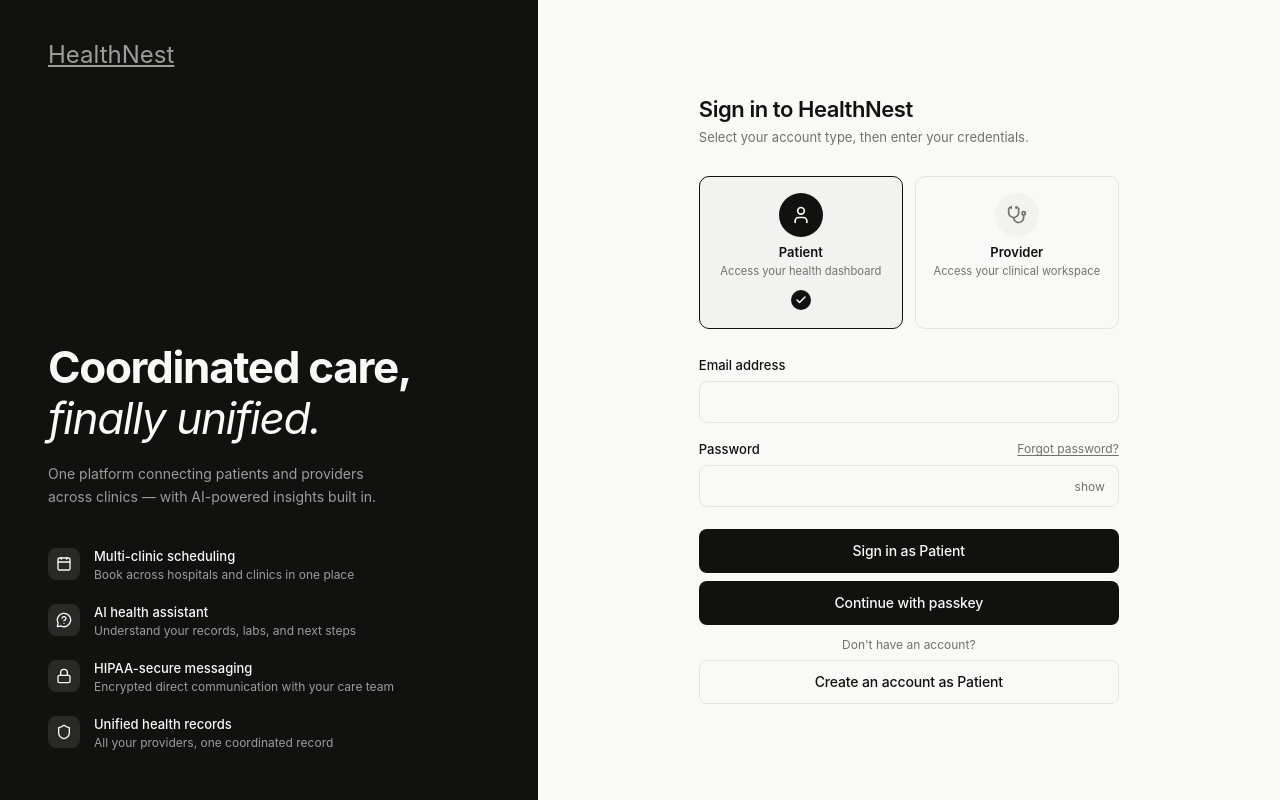
Login › shows error when passkey button clicked without email
Click the button "Continue with passkey" at point(909, 603), box x1=699 y1=581 x2=1119 y2=625
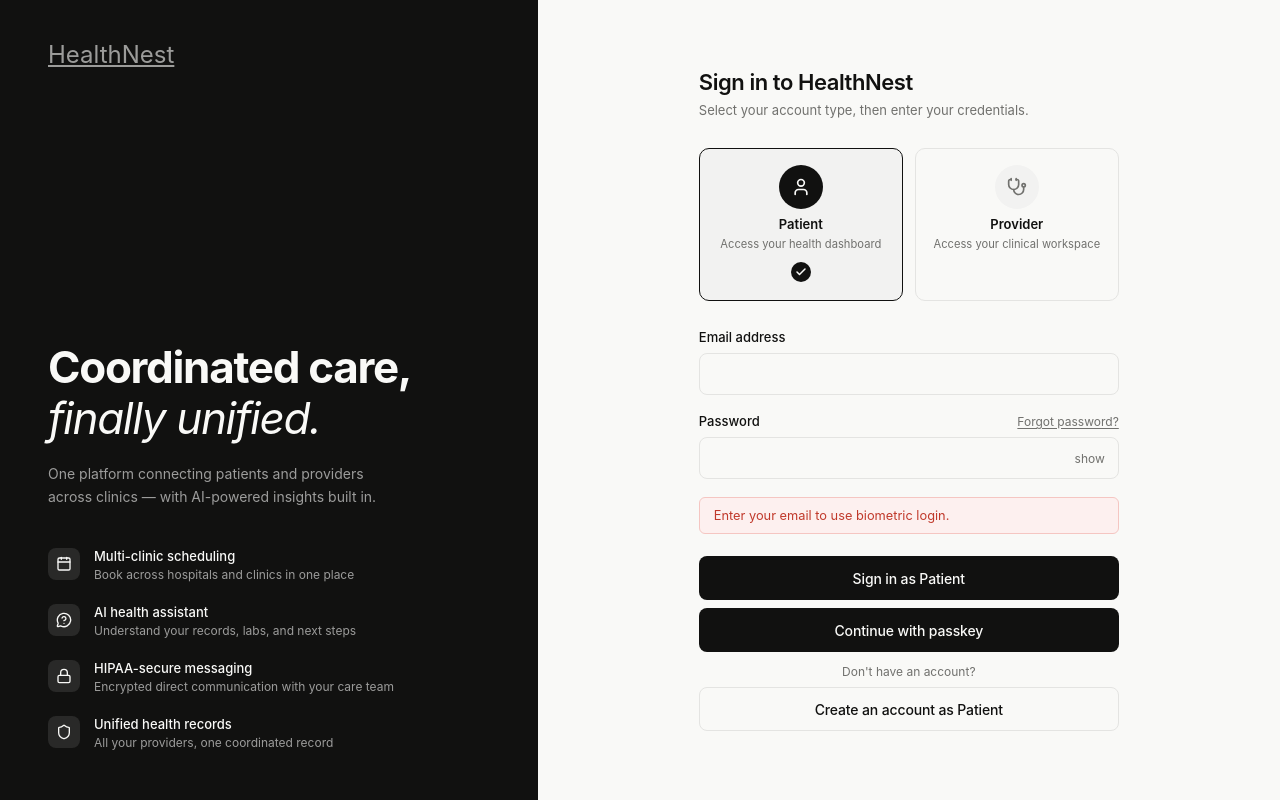
Result: the text "Enter your email to use biometric login." is shown at x1=699 y1=497 x2=1119 y2=534
